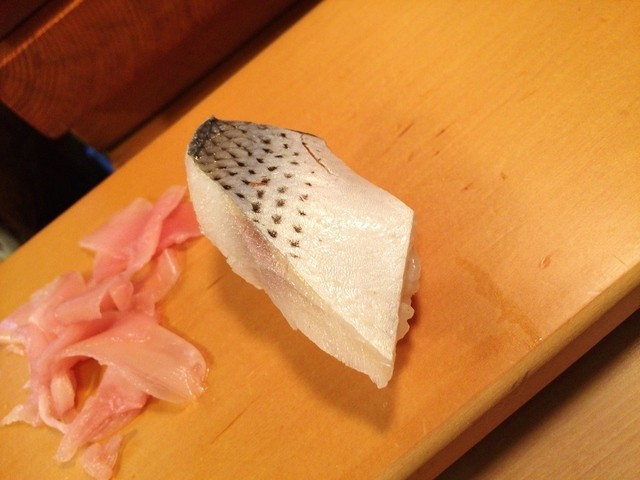spotted-shad: (186, 115, 419, 395)
